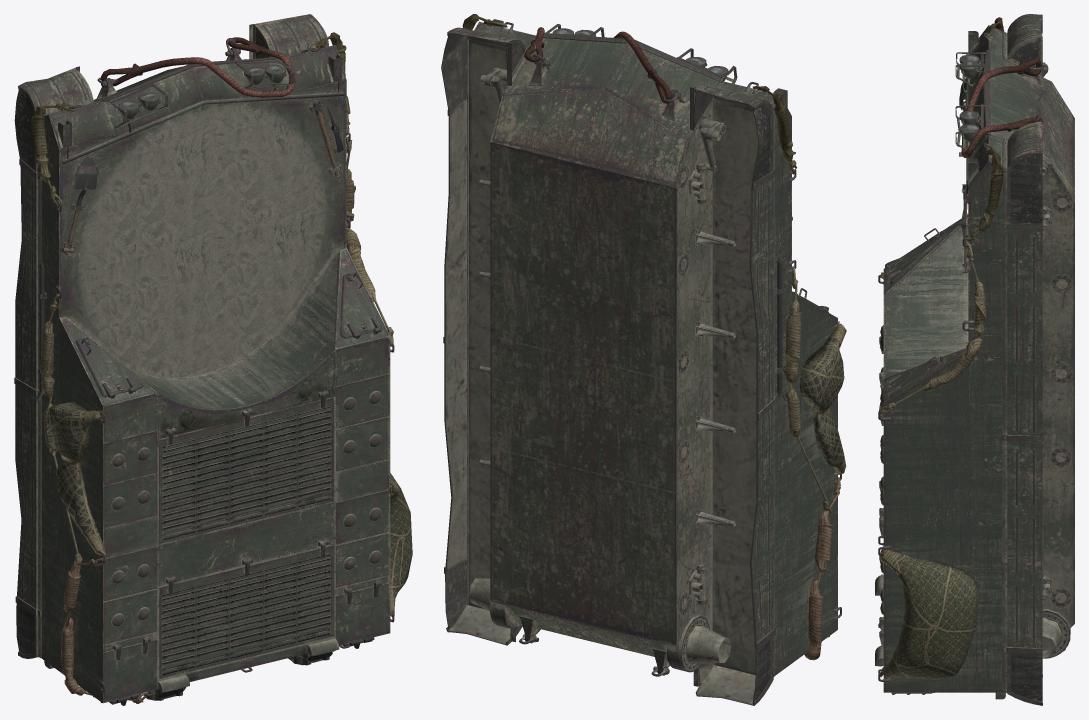
File: Hull.glb
3 renders of one model, left to right at view 1: azimuth 30°, elevation 25°; view 2: azimuth 150°, elevation 25°; view 3: azimuth 270°, elevation 25°, orthographic. The views are drawn at different scales.
Visible parts, largest first — view 1: set_0_group_0, set_0_group_1; view 2: set_0_group_0, set_0_group_1; view 3: set_0_group_0, set_0_group_1.
Part boxes in pixels (left/top/right/bottom): set_0_group_0: left=14, top=14, right=394, bottom=704; set_0_group_1: left=31, top=32, right=412, bottom=705; set_0_group_0: left=441, top=19, right=841, bottom=705; set_0_group_1: left=462, top=14, right=846, bottom=660; set_0_group_0: left=875, top=14, right=1074, bottom=705; set_0_group_1: left=879, top=17, right=1004, bottom=694.
Size of the model in its own units: 4.1 by 6.59 by 2.09.
2 materials, 2 textured.
